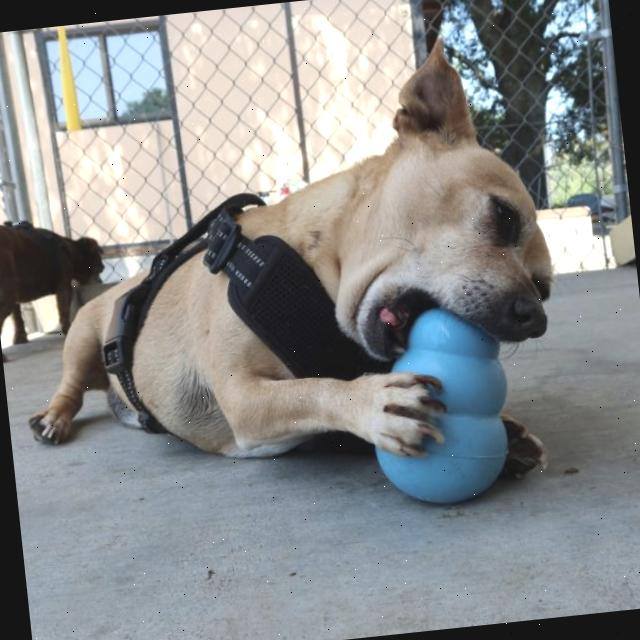chihuahua_dog: (292, 24, 574, 372)
